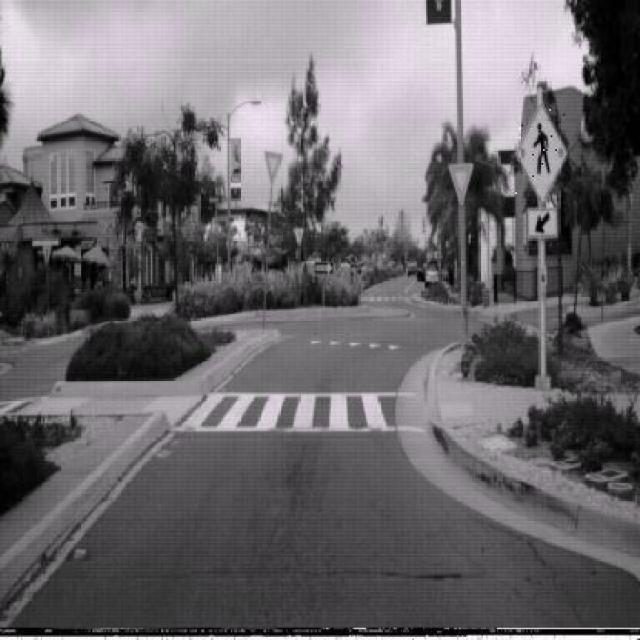pedestrianCrossing: (515, 100, 568, 204)
yield: (448, 162, 474, 206), (263, 148, 283, 184)
